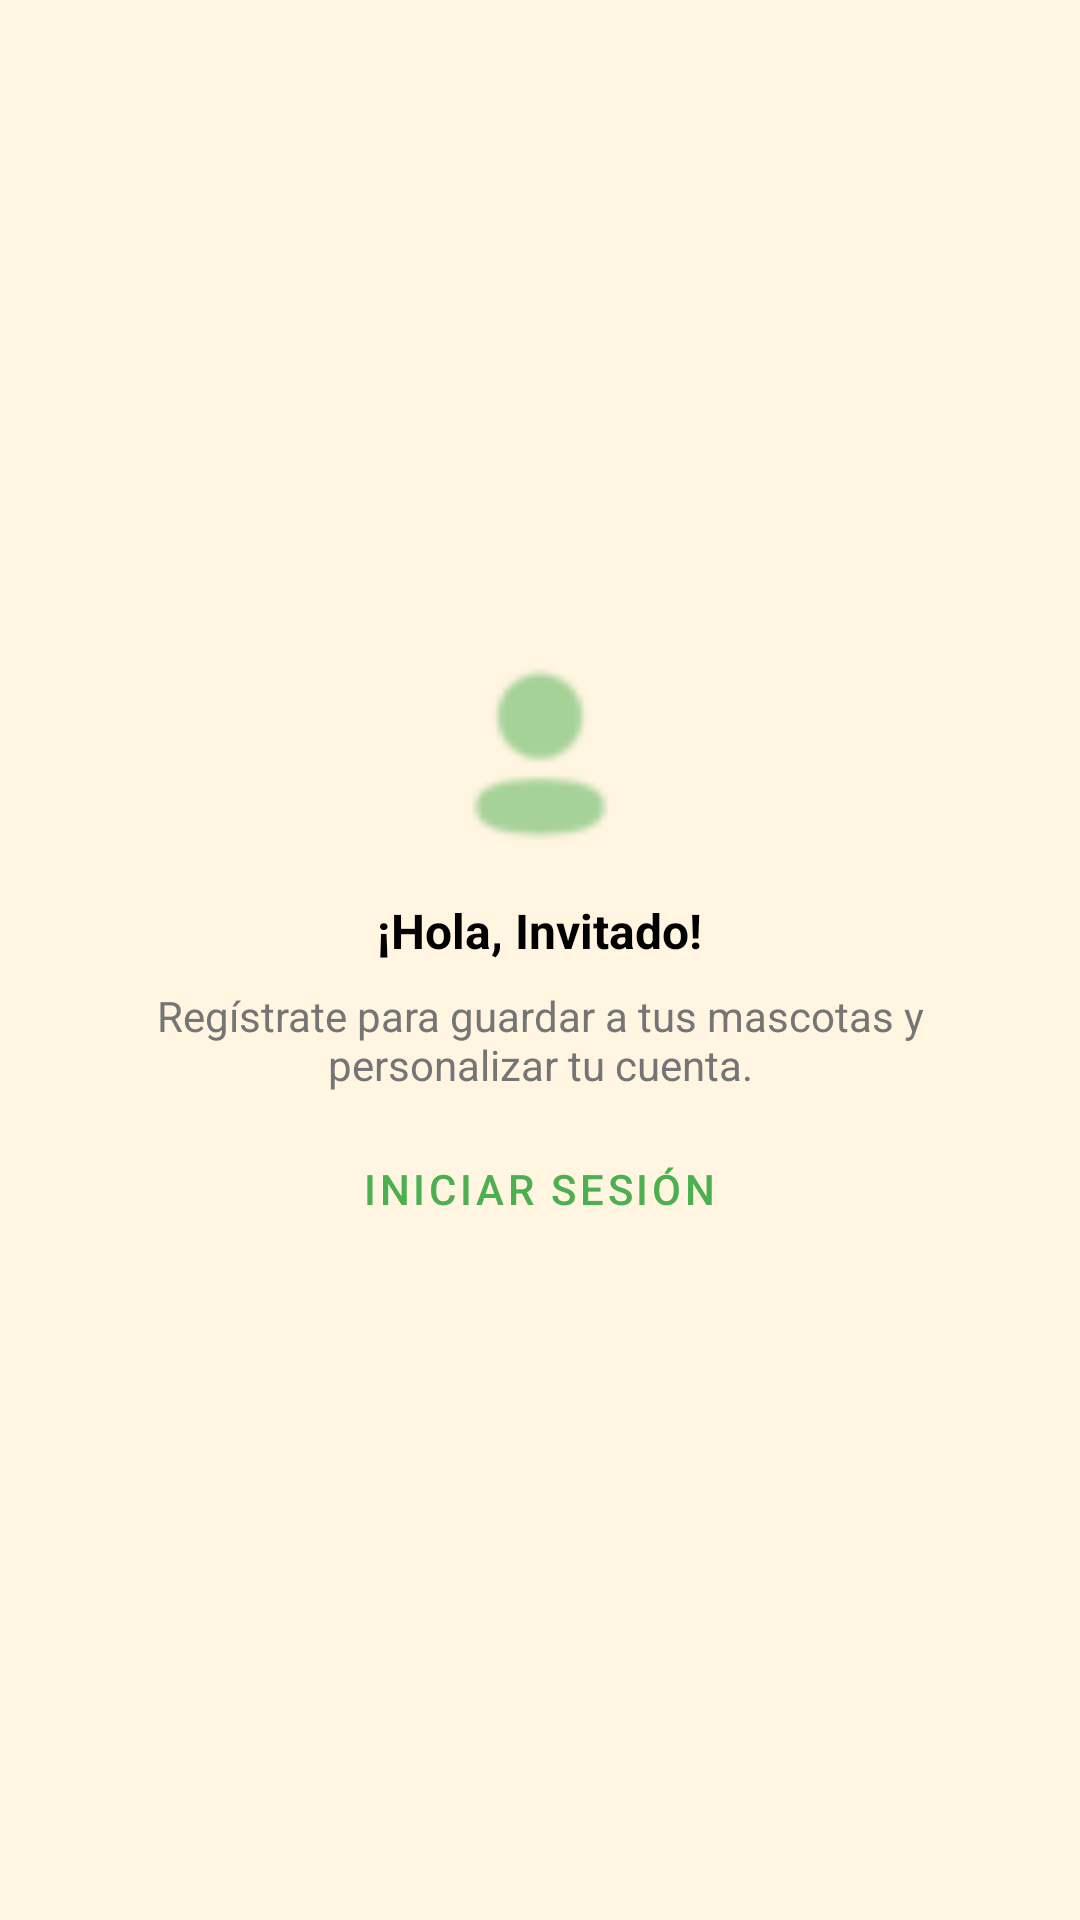

Screen size 1080x1920. Icon name, then its box in pixels as box=[x1, y1, x2, y2]:
profile: box=[474, 671, 606, 837]
